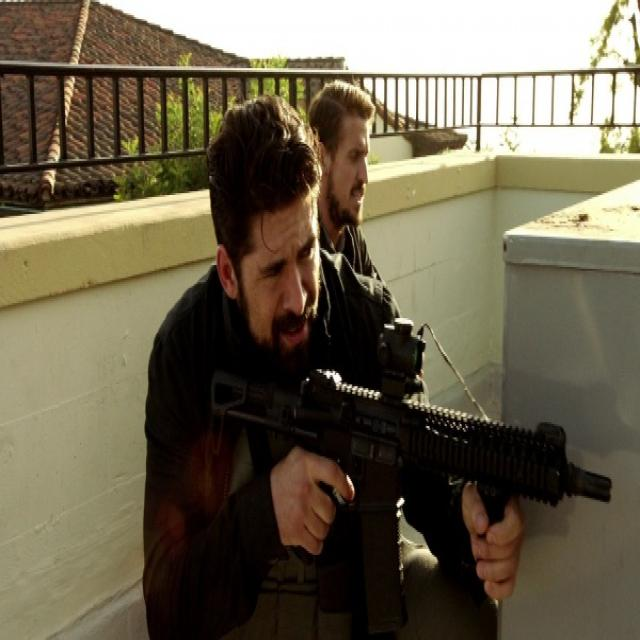rifle: (213, 307, 619, 626)
